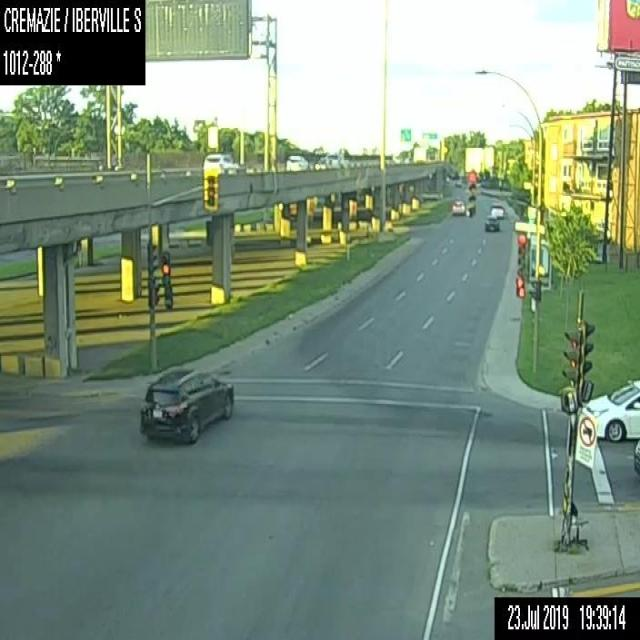vehicle: (139, 362, 233, 442), (584, 378, 639, 441), (203, 151, 240, 173), (286, 153, 307, 170), (631, 435, 639, 473), (314, 155, 335, 168), (484, 213, 499, 230), (413, 145, 427, 162), (451, 200, 464, 214), (490, 202, 502, 217), (454, 179, 461, 187)
